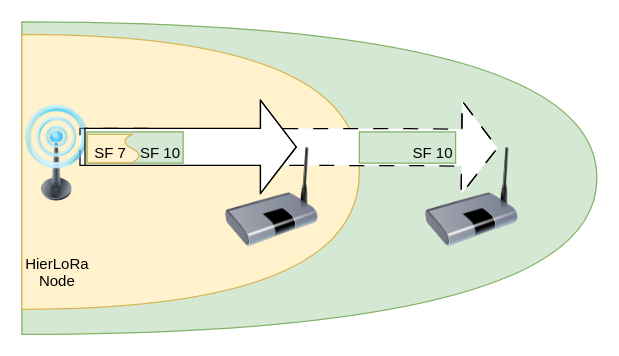
The diagram is 619 pixels wide and 356 high, and some of its shapes have lost their labels. Here are the shapes that lost their labels. From the top down, the centre of each, then its label:
(271,196): Gateway 1
(471,196): Gateway 2
